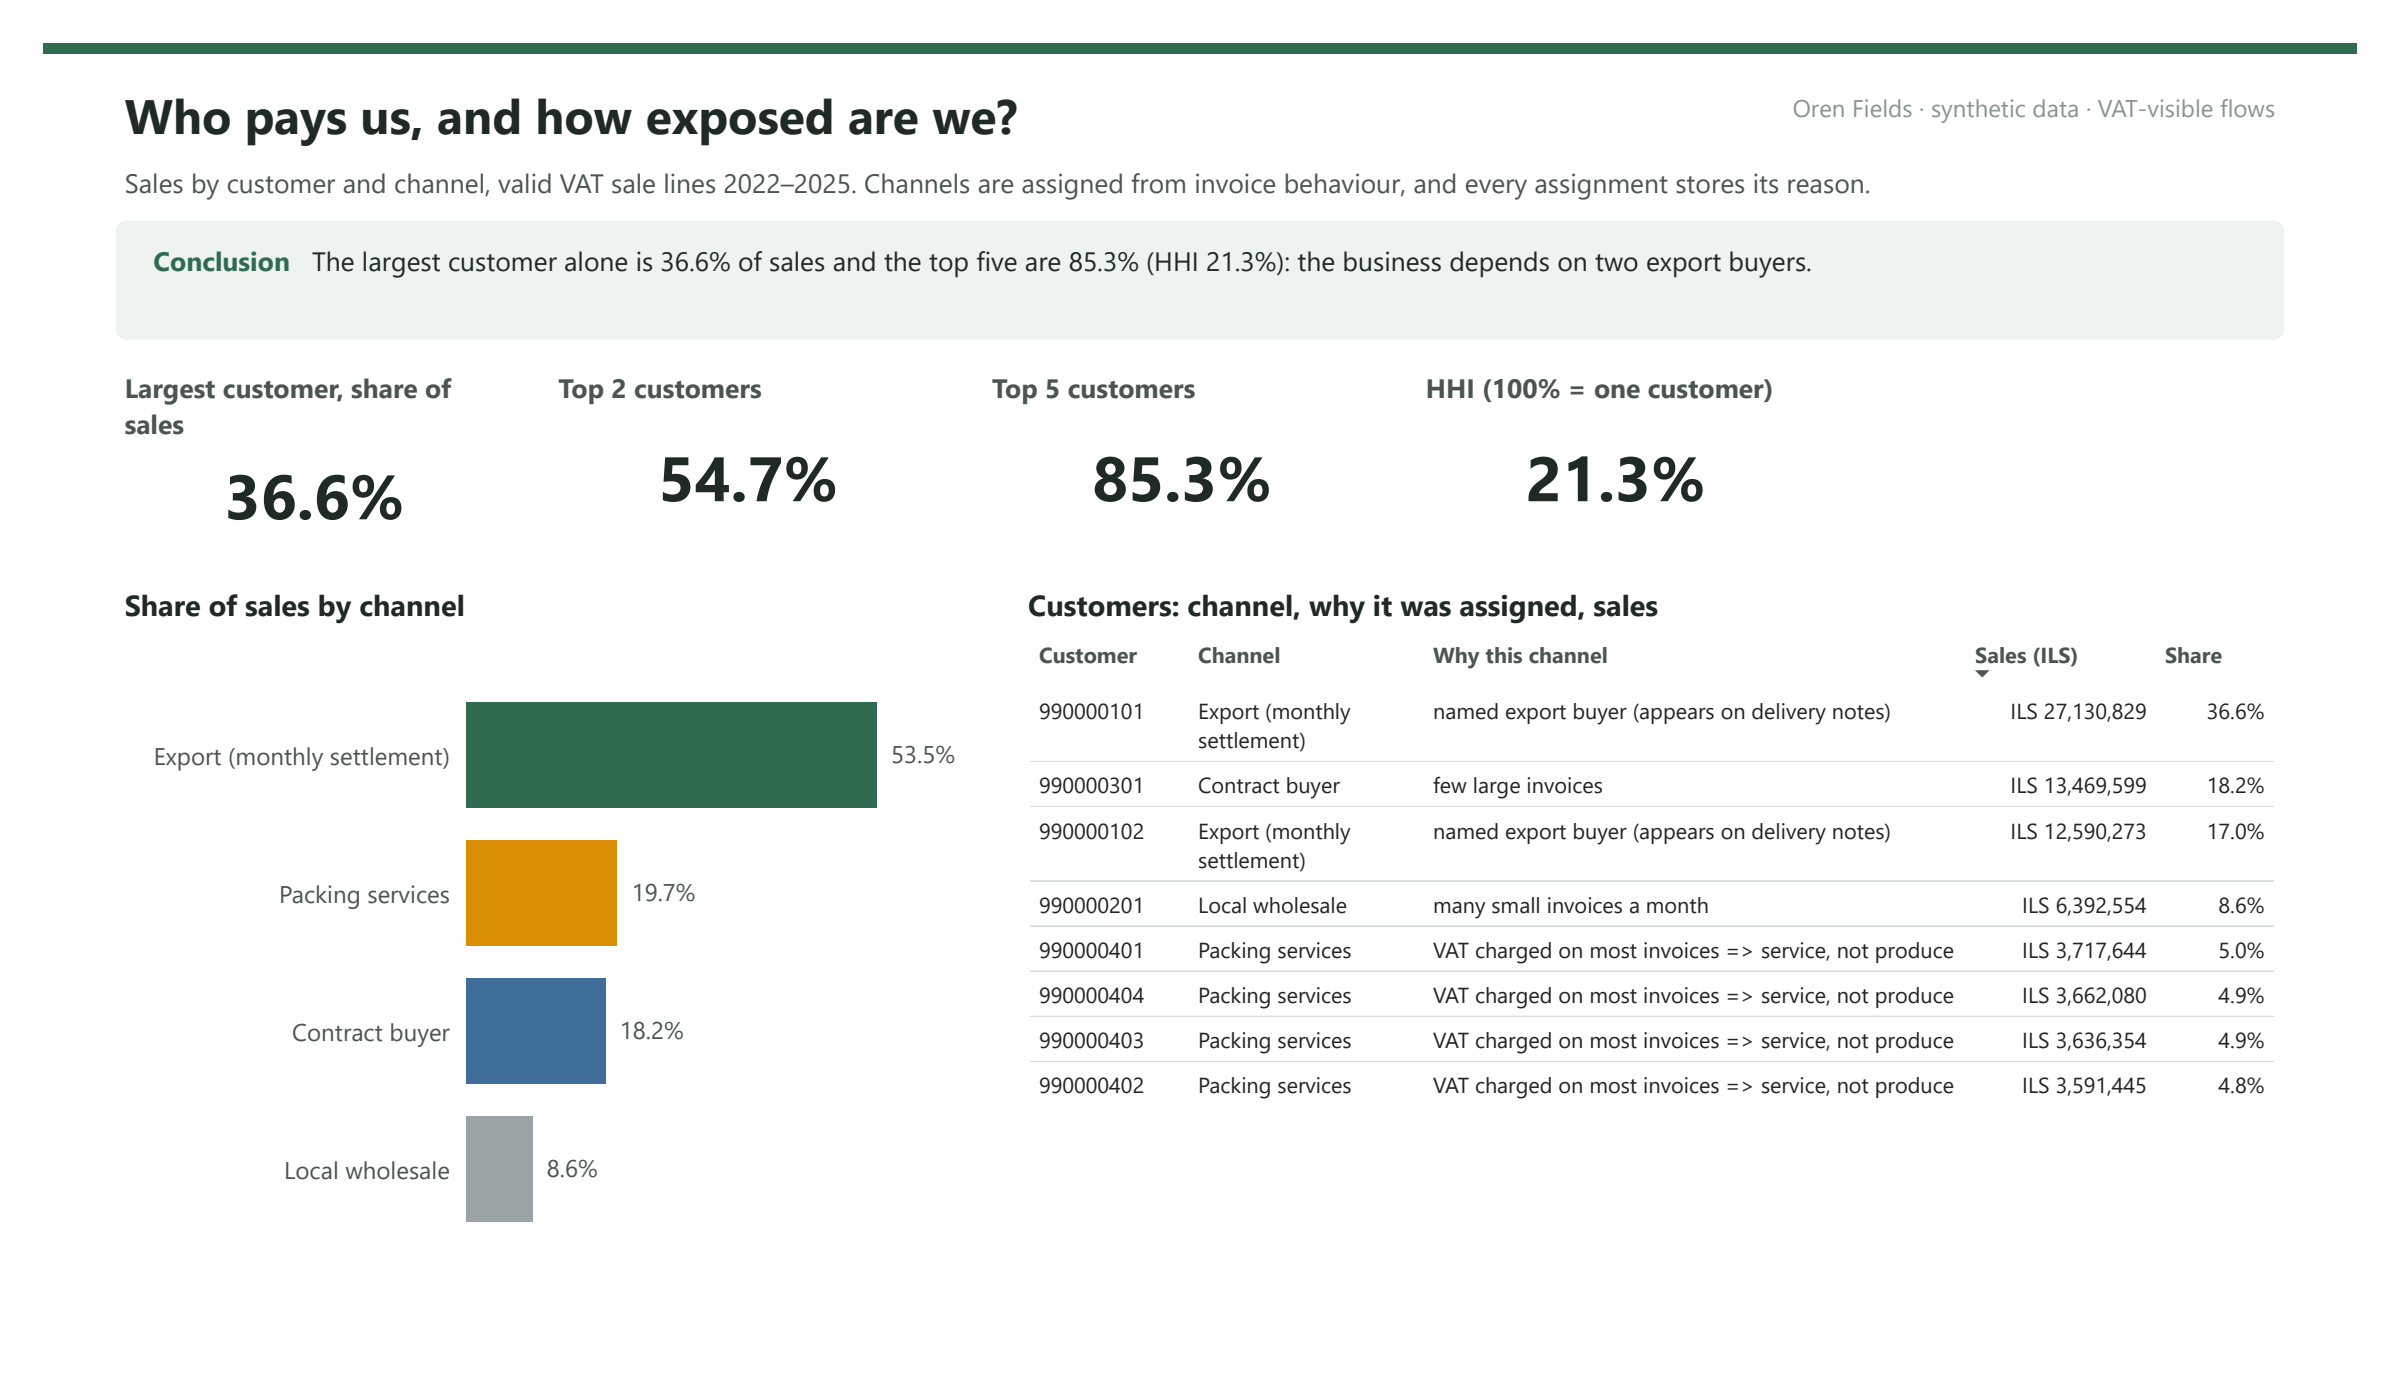

This screenshot's page, from the dashboard's own definition file:
{"tool":"powerbi","page":{"name":"Who pays us","canvas":[1280,720],"ordinal":0},"visuals":[{"type":"shape","box":[0,0,1280,6],"z":0},{"type":"textbox","box":[40,16,820,48],"z":1},{"type":"textbox","box":[860,22,380,34],"z":1},{"type":"textbox","box":[40,62,1200,34],"z":1},{"type":"shape","box":[40,98,1200,66],"z":1},{"type":"textbox","box":[56,105,1168,56],"z":2},{"type":"card","title":"Largest customer, share of sales","fields":{"Values":["_Measures.Largest customer share"]},"box":[40,180,220,100],"z":2},{"type":"card","title":"Top 2 customers","fields":{"Values":["_Measures.Top 2 share"]},"box":[280,180,220,100],"z":2},{"type":"card","title":"Top 5 customers","fields":{"Values":["_Measures.Top 5 share"]},"box":[520,180,220,100],"z":2},{"type":"card","title":"HHI (100% = one customer)","fields":{"Values":["_Measures.HHI"]},"box":[760,180,220,100],"z":2},{"type":"barChart","title":"Share of sales by channel","fields":{"Category":["dim_counterparty.channel"],"Y":["_Measures.Share of sales"]},"box":[40,300,470,390],"z":2},{"type":"tableEx","title":"Customers: channel, why it was assigned, sales","fields":{"Values":["dim_counterparty.counterparty_id","dim_counterparty.channel","dim_counterparty.channel_reason","_Measures.Sales ILS","_Measures.Share of sales"]},"box":[540,300,700,390],"z":2}]}

Visuals, with their boxes in screenshot pixels (x1, y1, x2, y2), scaled from the page's 1280x720 canvas onto the 2400x1388 screenshot:
shape: <box>0,0,2399,12</box>
textbox: <box>75,31,1612,123</box>
textbox: <box>1612,42,2325,108</box>
textbox: <box>75,120,2325,185</box>
shape: <box>75,189,2325,316</box>
textbox: <box>105,202,2295,310</box>
"Largest customer, share of sales" card: <box>75,347,488,540</box>
"Top 2 customers" card: <box>525,347,938,540</box>
"Top 5 customers" card: <box>975,347,1388,540</box>
"HHI (100% = one customer)" card: <box>1425,347,1838,540</box>
"Share of sales by channel" barChart: <box>75,578,956,1330</box>
"Customers: channel, why it was assigned, sales" tableEx: <box>1012,578,2325,1330</box>
